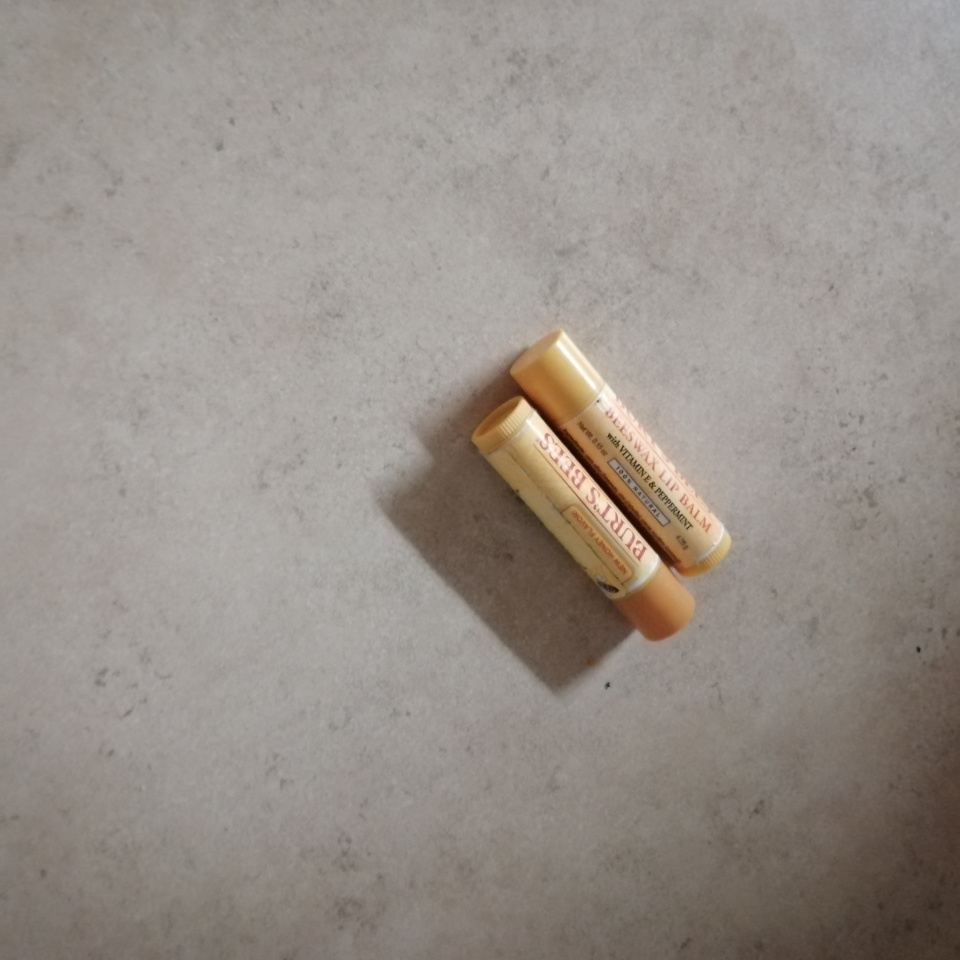chapstick: (509, 329, 733, 578), (470, 395, 695, 641)
